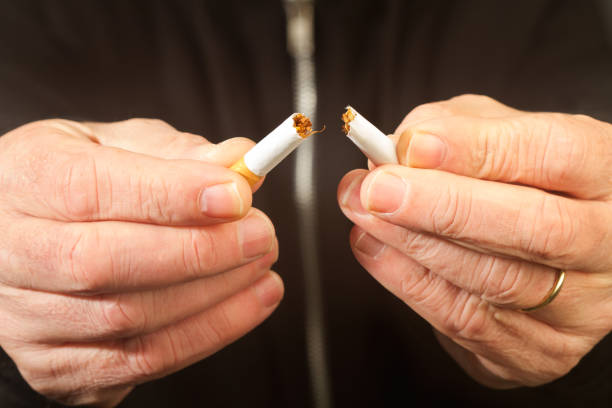cigarette: (223, 111, 313, 192), (340, 104, 399, 167)
